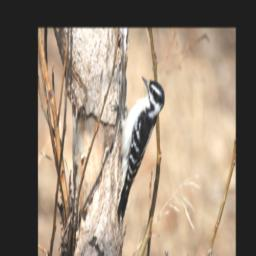Woodpecker: (110, 76, 165, 227)
